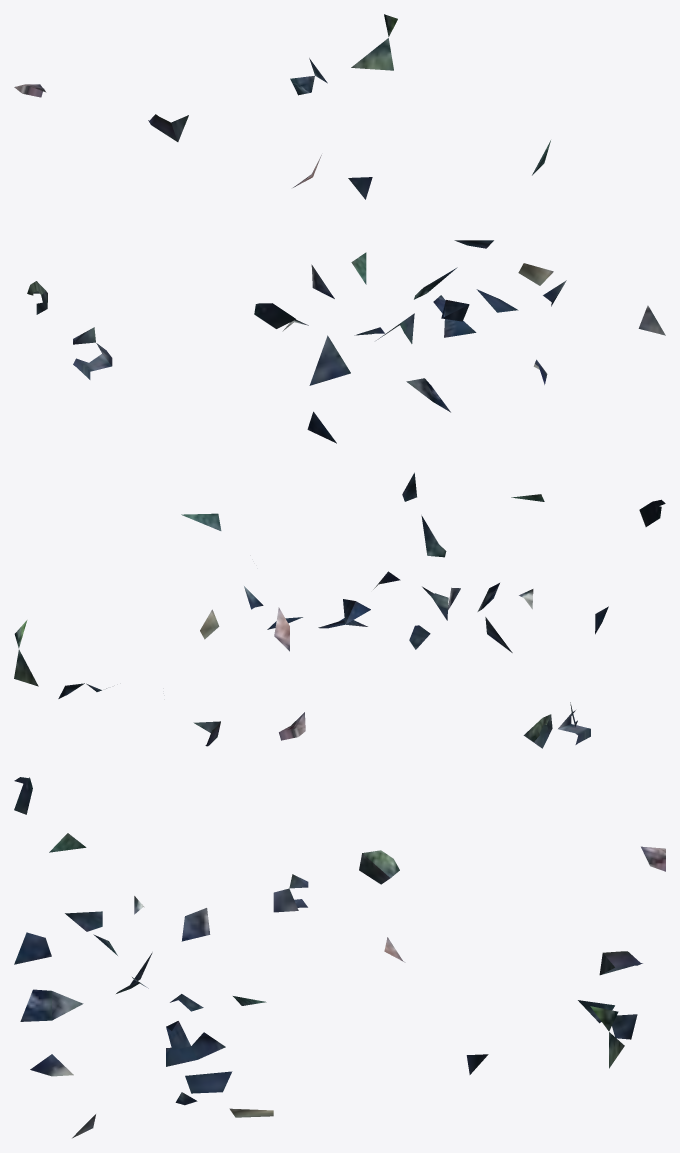
3 renders of one model, top to bottom at view 1: azimuth 30°, elevation 25°; view 2: azimuth 150°, elevation 25°; view 3: azimuth 270°, elevation 25°, orthographic. The views are drawn at different scales.
Parts seen in each view (by area): view 1: 30436272704361517532_1; view 2: 30436272704361517532_1; view 3: 30436272704361517532_1.
Boxes of the visible parts, x1,y1,x2,y2 form: 30436272704361517532_1: (14, 14, 665, 443); 30436272704361517532_1: (14, 472, 665, 748); 30436272704361517532_1: (14, 777, 665, 1138).
Bounding box in the file's own units: 26.7 × 8.32 × 31.78.
1 material, 1 textured.
